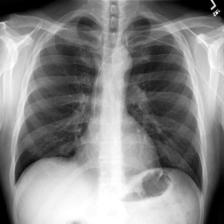normal: (11, 12, 209, 194)
